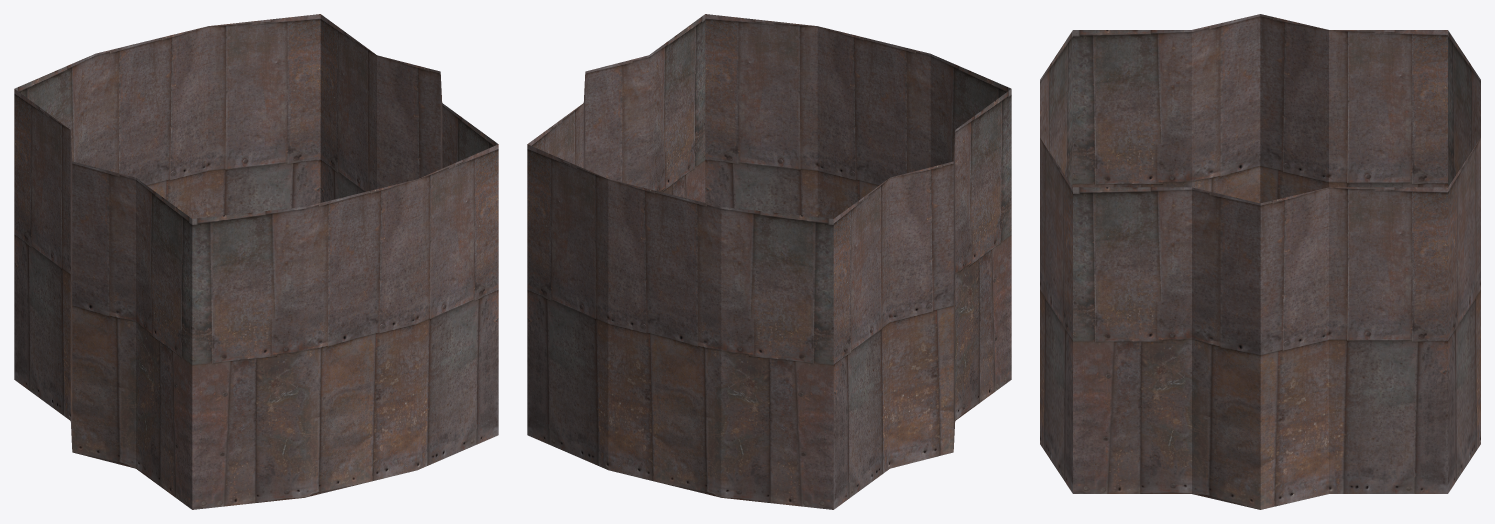
File: SM_LDFest_22_01.fbx
The picture shows the model from 3 angles, left to right: view 1: azimuth 30°, elevation 25°; view 2: azimuth 150°, elevation 25°; view 3: azimuth 270°, elevation 25°; orthographic projection. The views are drawn at different scales.
Parts seen in each view (by area): view 1: SM_LDFest_22_01; view 2: SM_LDFest_22_01; view 3: SM_LDFest_22_01.
Boxes of the visible parts, x1,y1,x2,y2 form: SM_LDFest_22_01: (14,14,498,509); SM_LDFest_22_01: (527,14,1011,509); SM_LDFest_22_01: (1040,14,1480,509).
Size of the model in its own units: 4051 by 3058 by 3984.
